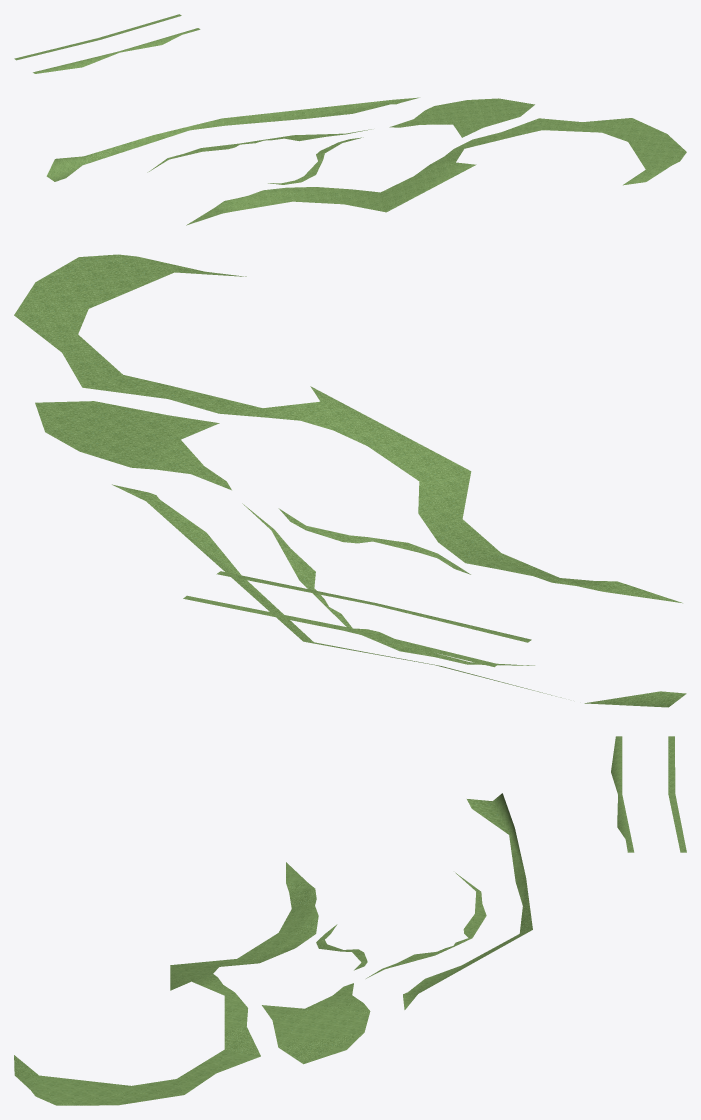
The model's file is kd_stage_136282_2_8_bounded.glb.
3 views of the same model, one above another, from view 1: azimuth 30°, elevation 25°; view 2: azimuth 150°, elevation 25°; view 3: azimuth 270°, elevation 25° (orthographic). The views are drawn at different scales.
Visible parts, largest first — view 1: kd_stage_136282_2_8_bounded; view 2: kd_stage_136282_2_8_bounded; view 3: kd_stage_136282_2_8_bounded.
Boxes of the visible parts, x1,y1,x2,y2 form: kd_stage_136282_2_8_bounded: [14, 14, 686, 225]; kd_stage_136282_2_8_bounded: [14, 254, 686, 707]; kd_stage_136282_2_8_bounded: [14, 736, 686, 1105].
Size of the model in its own units: 121 by 17.57 by 103.
1 material, 1 textured.
